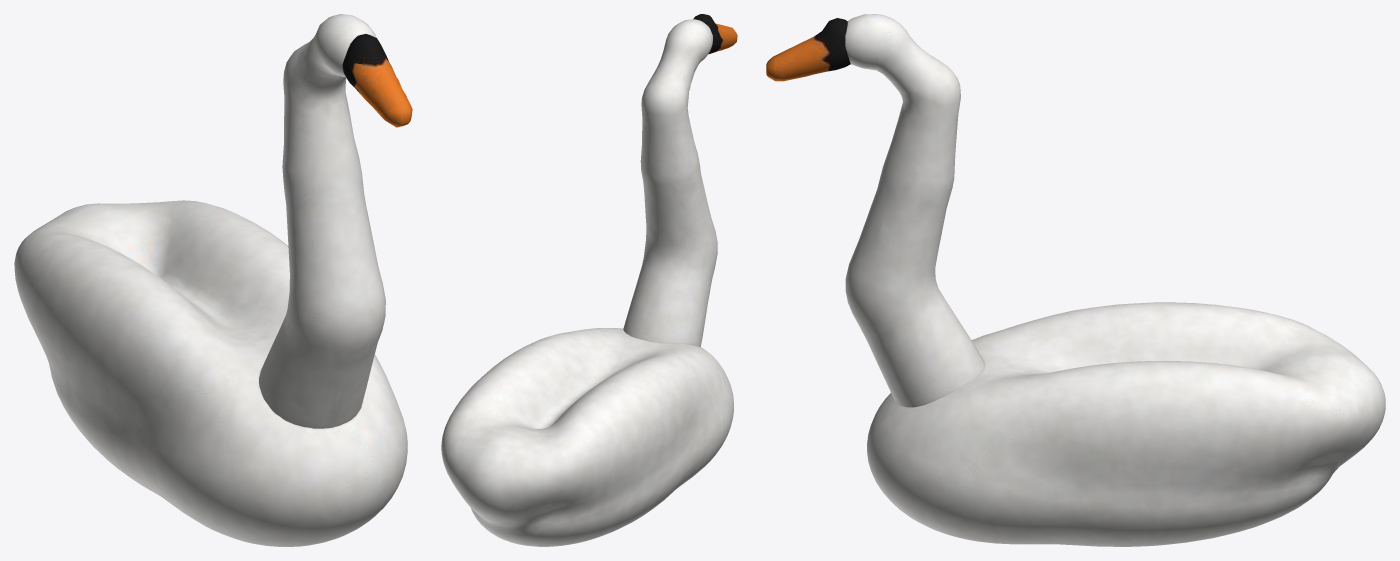
Rendered from animal_swan.glb.
The picture shows the model from 3 angles, left to right: view 1: azimuth 30°, elevation 25°; view 2: azimuth 150°, elevation 25°; view 3: azimuth 270°, elevation 25°; orthographic projection. The views are drawn at different scales.
Parts seen in each view (by area): view 1: animal_swan, head; view 2: animal_swan, head; view 3: animal_swan, head.
Boxes of the visible parts, x1,y1,x2,y2 form: animal_swan: (14, 200, 407, 546); head: (259, 14, 412, 428); animal_swan: (441, 328, 733, 546); head: (623, 14, 737, 347); animal_swan: (867, 302, 1385, 546); head: (766, 14, 984, 407).
Bounding box in the file's own units: 0.1555 × 0.3681 × 0.4006.
Materials: 1 (1 with a texture image).
